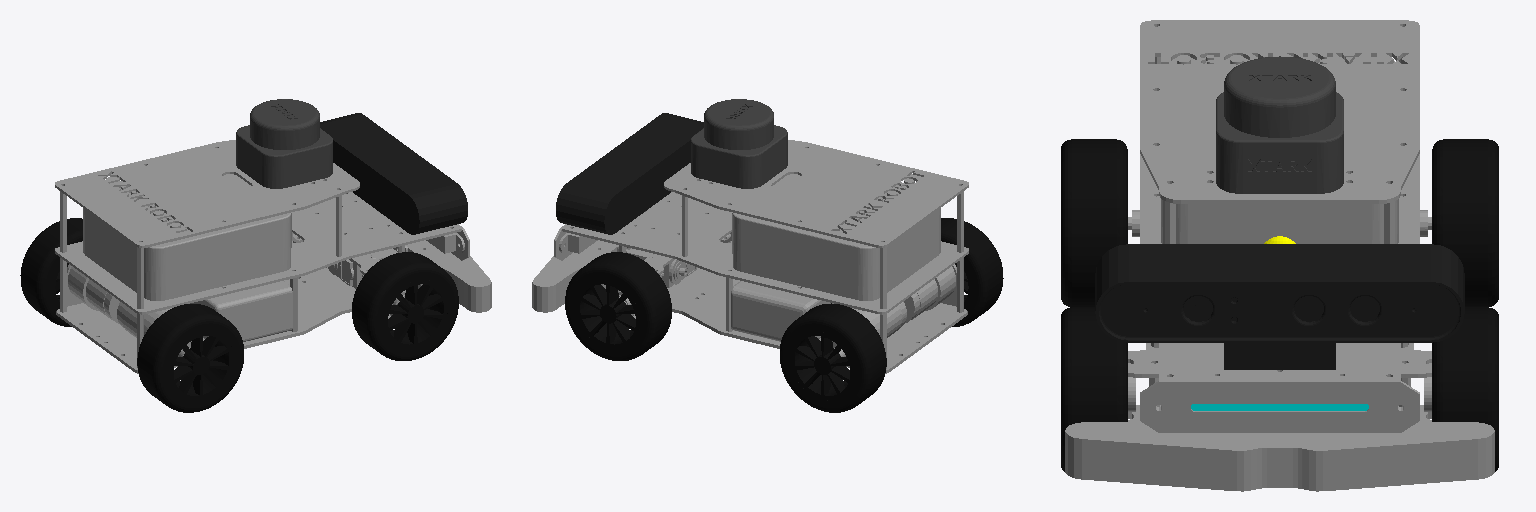
The robot description file, URDF, robot "tarkbot_robot":
<?xml version="1.0" encoding="utf-8"?>

<robot name="tarkbot_robot">

    <!-- 机器人底部中心原点 -->
    <link name="base_footprint">
        <visual>
            <geometry>
                <sphere radius="0.001" />
            </geometry>
        </visual>
    </link>

    <!-- 机器人底盘 -->
    <link name="base_link">
        <visual>
            <geometry>
                <mesh filename="package://tarkbot_description/meshes/base_r20_akm.stl" />
            </geometry>
            <origin xyz="0 0 0" rpy="0 0 0" />
            <material name="base_color">
                <!-- <color rgba="0.000 0.500 0.500 1" /> -->
                <!-- <color rgba="0.000 0.000 1.000 1" /> -->
                <!-- <color rgba="1.000 0.500 0.000 1" /> -->
                <color rgba="0.650 0.650 0.650 1" />
            </material>
        </visual>
    </link>   

    <!-- 机器人轮子 -->
    <link name="wheel_fl">
        <visual>
            <geometry>
                <mesh filename="package://tarkbot_description/meshes/wheel/w75.stl" />
            </geometry>
            <origin xyz="0 0 0" rpy="0 0 0" />
            <material name="wheel_color">
                <color rgba="0.1 0.1 0.1 1" />
            </material>
        </visual>
    </link>  

    <link name="wheel_fr">
        <visual>
            <geometry>
                <mesh filename="package://tarkbot_description/meshes/wheel/w75.stl" />
            </geometry>
            <origin xyz="0 0 0" rpy="0 0 0" />
            <material name="wheel_color">
                <color rgba="0.1 0.1 0.1 1" />
            </material>
        </visual>
    </link>  

    <link name="wheel_bl">
        <visual>
            <geometry>
                <mesh filename="package://tarkbot_description/meshes/wheel/w75.stl" />
            </geometry>
            <origin xyz="0 0 0" rpy="0 0 0" />
            <material name="wheel_color">
                <color rgba="0.1 0.1 0.1 1" />
            </material>
        </visual>
    </link>  

    <link name="wheel_br">
        <visual>
            <geometry>
                <mesh filename="package://tarkbot_description/meshes/wheel/w75.stl" />
            </geometry>
            <origin xyz="0 0 0" rpy="0 0 0" />
            <material name="wheel_color">
                <color rgba="0.1 0.1 0.1 1" />
            </material>
        </visual>
    </link>  



    <!-- 机器人雷达 -->
    <link name="laser_link">
        <visual>
            <geometry>
                <mesh filename="package://tarkbot_description/meshes/laser_s.stl" />
            </geometry>
            <origin xyz="0 0 -0.035" rpy="0 0 0" />
            <material name="laser_color">
                <color rgba="0.3 0.3 0.3 1" />
            </material>
        </visual>
    </link> 

    <!-- 机器人摄像头 -->
    <link name="camera_link">
        <visual>
            <geometry>
                <mesh filename="package://tarkbot_description/meshes/depthcamera.stl" />
            </geometry>
            <origin xyz="-0.037 0 0" rpy="0 0 0" />
            <material name="camera_color">
                <color rgba="0.15 0.15 0.15 1" />
            </material>
        </visual>
    </link>

    <!-- 机器人IMU传感器 -->
    <link name="imu_link">
        <visual>
            <geometry>
                <sphere radius="0.010" />
            </geometry>
            <origin xyz="0 0 0" rpy="0 0 0" />
            <material name="imu_color">
                <color rgba="1 1 0 1" />
            </material>
        </visual>
    </link>

    <!-- 机器人前灯 -->
    <link name="light_link">
        <visual>
            <geometry>
                <mesh filename="package://tarkbot_description/meshes/light.stl" />
            </geometry>
            <origin xyz="0 0 0" rpy="0 0 0" />
            <material name="light_color">
                <color rgba="0.0 1.0 1.0 1" />
            </material>
        </visual>
    </link>

    <!-- 底盘与原点连接的关节 -->
    <joint name="baselink2footprint" type="fixed">
        <origin xyz="0 0 0.074" rpy="0 0 0"/>
        <parent link="base_footprint" />
        <child  link="base_link" />
    </joint>

    <!-- 轮子到与底盘连接的关节 -->
    <joint name="wheelfl2base" type="fixed">
        <origin xyz="0.076 0.088 -0.03465" rpy="0 0 1.57"/>
        <parent link="base_link" />
        <child  link="wheel_fl" />
    </joint>

    <joint name="wheelfr2base" type="fixed">
        <origin xyz="0.076 -0.088 -0.03465" rpy="0 0 -1.57"/>
        <parent link="base_link" />
        <child  link="wheel_fr" />
    </joint>

    <joint name="wheelbl2base" type="fixed">
        <origin xyz="-0.100 0.088 -0.034" rpy="0 0 1.57"/>
        <parent link="base_link" />
        <child  link="wheel_bl" />
    </joint>

    <joint name="wheelbr2base" type="fixed">
        <origin xyz="-0.100 -0.088 -0.034" rpy="0 0 -1.57"/>
        <parent link="base_link" />
        <child  link="wheel_br" />
    </joint>


    <!-- 雷达到与底盘连接的关节 -->
    <joint name="laser2base" type="fixed">
        <origin xyz="0.025 0 0.087" rpy="0 0 0"/>
        <parent link="base_link" />
        <child  link="laser_link" />
    </joint>

    <!-- 深度摄像头与底盘连接的关节 -->
    <joint name="camera2base" type="fixed">
        <origin xyz="0.125 0 0.0285" rpy="0 0 0"/>
        <parent link="base_link" />
        <child  link="camera_link" />
    </joint>

    <!-- IMU传感器与底盘连接的关节 -->
    <joint name="imu2base" type="fixed">
        <origin xyz="0 0 0" rpy="0 0 0"/>
        <parent link="base_link" />
        <child  link="imu_link" />
    </joint>

    <!-- 前灯与底盘连接的关节 -->
    <joint name="light2base" type="fixed">
        <origin xyz="0.140 0 -0.0125 " rpy="0 0 0"/>
        <parent link="base_link" />
        <child  link="light_link" />
    </joint>

</robot>

--- What the picture shows (computed from the rendered views, not written in the file) ---
The picture shows the robot from 3 angles, left to right: view 1: azimuth 30°, elevation 25°; view 2: azimuth 150°, elevation 25°; view 3: azimuth 270°, elevation 25°; orthographic projection.
Model tarkbot_robot with 10 links and 9 joints (9 fixed), rooted at base_footprint, posed all joints at 0.
Links seen in each view (by area): view 1: base_link, camera_link, wheel_fr, wheel_br, laser_link, wheel_bl; view 2: base_link, camera_link, wheel_bl, wheel_fl, laser_link, wheel_br; view 3: base_link, camera_link, laser_link, wheel_br, wheel_bl, wheel_fr, wheel_fl, light_link.
Link boxes in pixels (x1,y1,x2,y2): base_link: (55,140,491,373); camera_link: (320,113,467,234); wheel_fr: (352,252,458,360); wheel_br: (137,304,243,412); laser_link: (236,99,332,188); wheel_bl: (20,218,82,326); base_link: (532,140,968,373); camera_link: (556,113,703,234); wheel_bl: (780,303,886,412); wheel_fl: (565,252,671,360); laser_link: (691,99,787,188); wheel_br: (941,218,1003,326); base_link: (1065,20,1494,491); camera_link: (1095,244,1464,369); laser_link: (1216,56,1343,193); wheel_br: (1061,139,1127,306); wheel_bl: (1432,139,1498,306); wheel_fr: (1061,307,1127,471); wheel_fl: (1432,307,1498,471); light_link: (1191,404,1368,410).
Bounding box of the posed robot: 0.293 × 0.1961 × 0.171 m (x, y, z).
8 mesh visuals loaded from 5 distinct referenced files (5 binary STL).